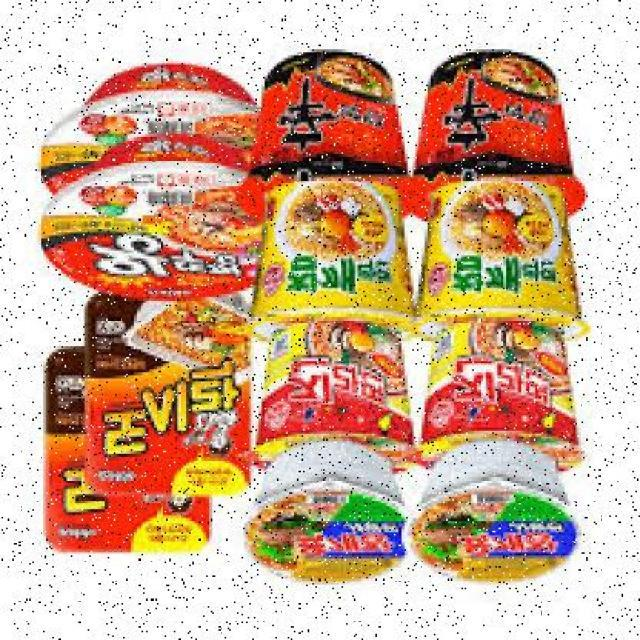Miscellaneous: (32, 148, 286, 302), (34, 53, 296, 199), (412, 56, 606, 221), (410, 184, 602, 346), (246, 50, 427, 221), (406, 324, 594, 476), (253, 324, 424, 472), (256, 181, 418, 336), (412, 448, 583, 580), (244, 456, 413, 578)
